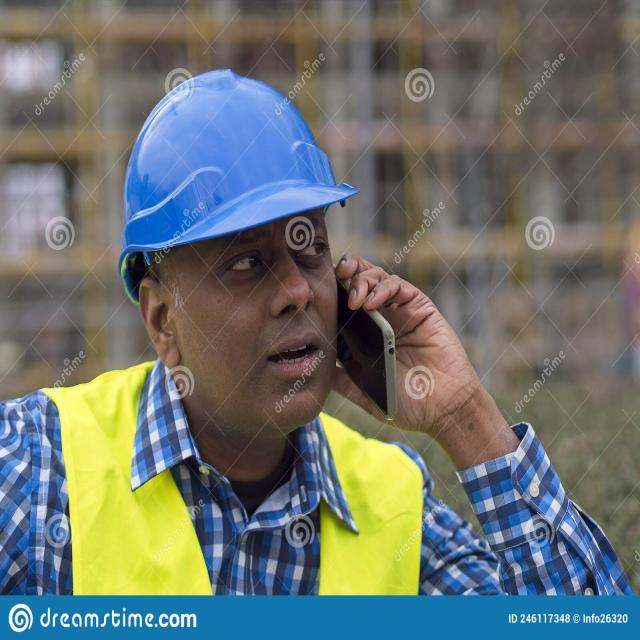Reflective-Jacket: (36, 379, 430, 588)
Safety-Helmet: (116, 70, 355, 256)
